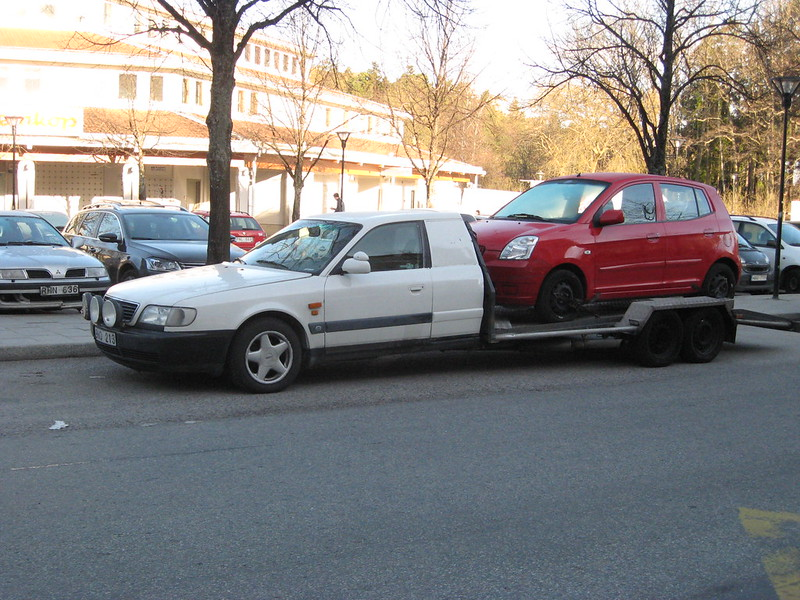car: (87, 211, 479, 384), (497, 167, 747, 314), (74, 198, 218, 264), (1, 213, 102, 303)
